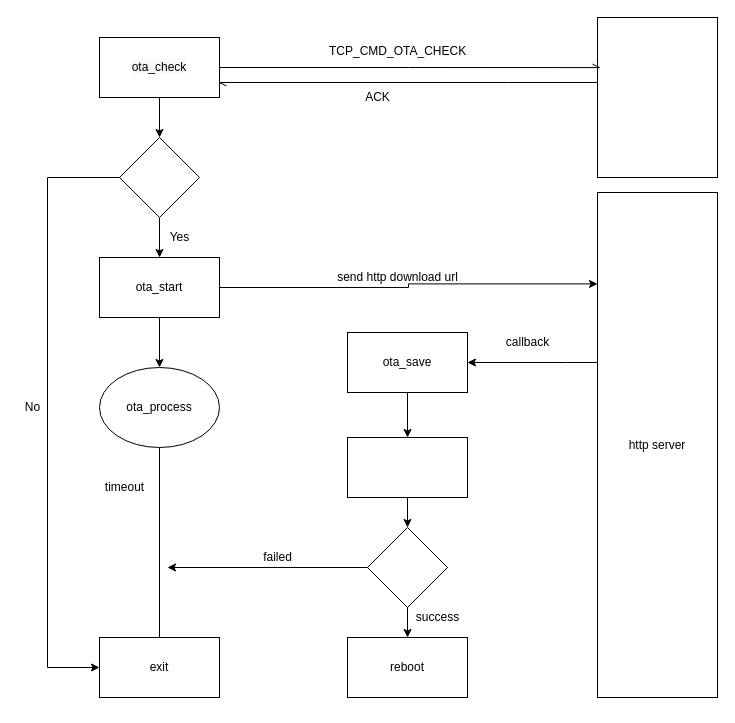
This 735x723 diagram has some shape labels left out. The shapes that lost their labels are listed below. From the top down, each one's centre as x and y in pixels, then its label:
(657,97): socket server
(159,177): 是否需要升级
(407,467): ota_finish
(407,567): check image
